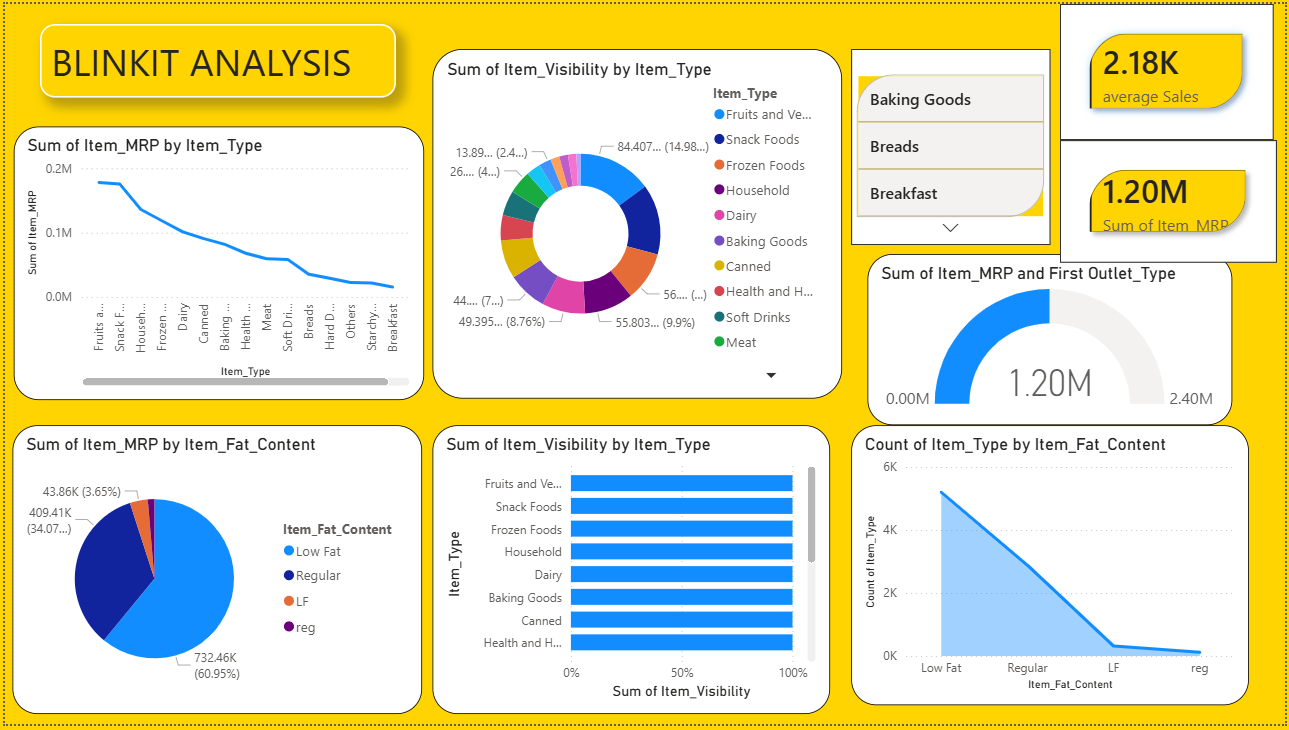

The dashboard page shown, as its layout file describes it:
{"tool":"powerbi","page":{"name":"Page 1","canvas":[1280,720],"ordinal":0},"visuals":[{"type":"stackedAreaChart","fields":{"Category":["Tableau BlinkIT Grocery Project.Item_Fat_Content"],"Y":["CountNonNull(Tableau BlinkIT Grocery Project.Item_Type)"]},"box":[825.4,424.3,397.4,280],"z":0},{"type":"pieChart","fields":{"Category":["Tableau BlinkIT Grocery Project.Item_Fat_Content"],"Y":["Sum(Tableau BlinkIT Grocery Project.Item_MRP)"]},"box":[7.3,420.7,409.6,288.6],"z":1000},{"type":"donutChart","fields":{"Y":["Sum(Tableau BlinkIT Grocery Project.Item_Visibility)"],"Category":["Tableau BlinkIT Grocery Project.Item_Type"]},"box":[428,45.2,409.6,349.7],"z":2000},{"type":"cardVisual","fields":{"Data":["Tableau BlinkIT Grocery Project.average Sales"]},"box":[1055.3,0,214,135.7],"z":3000},{"type":"cardVisual","fields":{"Rows":["Tableau BlinkIT Grocery Project.Item_Type"]},"box":[846.2,45.2,199.3,195.7],"z":4000},{"type":"hundredPercentStackedBarChart","fields":{"Category":["Tableau BlinkIT Grocery Project.Item_Type"],"Y":["Sum(Tableau BlinkIT Grocery Project.Item_Visibility)"]},"box":[428,420.7,397.4,288.6],"z":5000},{"type":"gauge","fields":{"Y":["Sum(Tableau BlinkIT Grocery Project.Item_MRP)"]},"box":[846.2,249.5,365.6,171.2],"z":6000},{"type":"lineChart","fields":{"Y":["Sum(Tableau BlinkIT Grocery Project.Item_MRP)"],"Category":["Tableau BlinkIT Grocery Project.Item_Type"]},"box":[7.3,121.1,409.6,273.9],"z":7000},{"type":"textbox","box":[35.5,19.6,355.8,73.4],"z":8000},{"type":"cardVisual","fields":{"Data":["Sum(Tableau BlinkIT Grocery Project.Item_MRP)"]},"box":[1055.3,135.7,216.4,122.3],"z":9000}]}

Visuals, with their boxes in screenshot pixels (x1, y1, x2, y2), scaled from the page's 1280x720 canvas onto the 1289x730 screenshot:
stackedAreaChart - Tableau BlinkIT Grocery Project.Item_Fat_Content x CountNonNull(Tableau BlinkIT Grocery Project.Item_Type): x1=831, y1=430, x2=1231, y2=714
pieChart - Tableau BlinkIT Grocery Project.Item_Fat_Content x Sum(Tableau BlinkIT Grocery Project.Item_MRP): x1=7, y1=427, x2=420, y2=719
donutChart - Sum(Tableau BlinkIT Grocery Project.Item_Visibility) x Tableau BlinkIT Grocery Project.Item_Type: x1=431, y1=46, x2=843, y2=400
cardVisual - Tableau BlinkIT Grocery Project.average Sales: x1=1063, y1=0, x2=1278, y2=138
cardVisual - Tableau BlinkIT Grocery Project.Item_Type: x1=852, y1=46, x2=1053, y2=244
hundredPercentStackedBarChart - Tableau BlinkIT Grocery Project.Item_Type x Sum(Tableau BlinkIT Grocery Project.Item_Visibility): x1=431, y1=427, x2=831, y2=719
gauge - Sum(Tableau BlinkIT Grocery Project.Item_MRP): x1=852, y1=253, x2=1220, y2=427
lineChart - Sum(Tableau BlinkIT Grocery Project.Item_MRP) x Tableau BlinkIT Grocery Project.Item_Type: x1=7, y1=123, x2=420, y2=400
textbox: x1=36, y1=20, x2=394, y2=94
cardVisual - Sum(Tableau BlinkIT Grocery Project.Item_MRP): x1=1063, y1=138, x2=1281, y2=262
